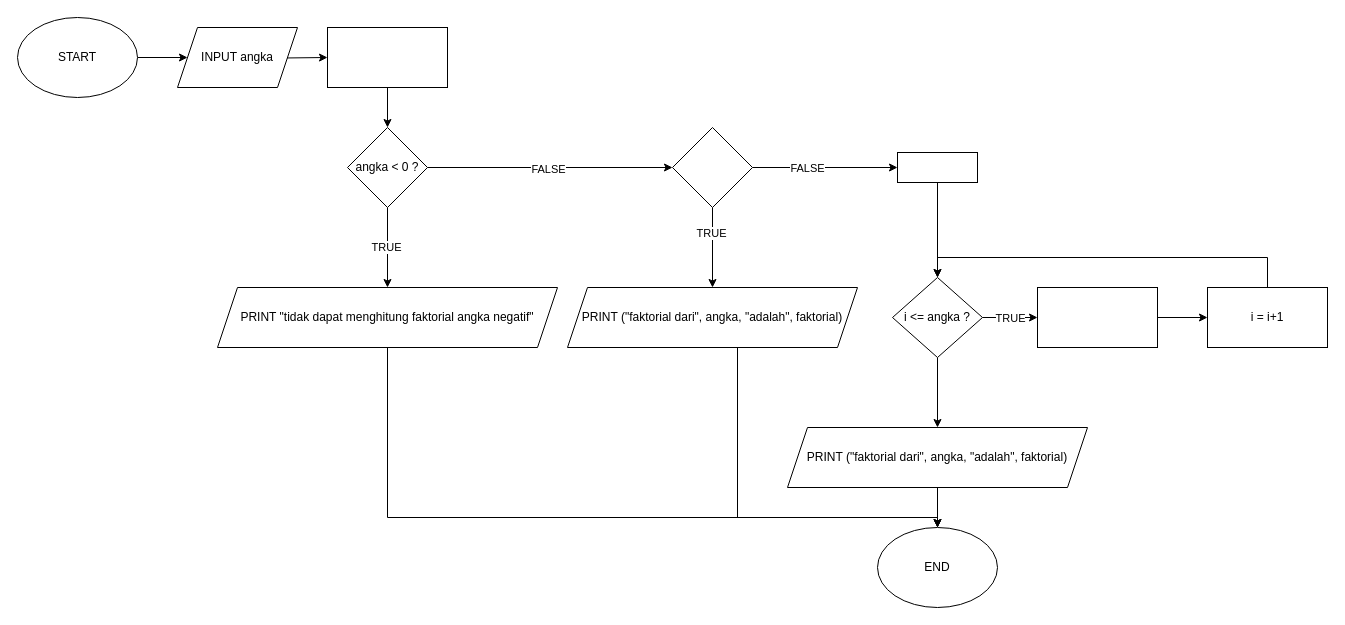
This 1345x625 diagram has some shape labels left out. Here are the shapes that lost their labels. From the top down, the centre of each, then its label:
(x=387, y=57): faktorial = 1
(x=712, y=167): angka == 0 ?
(x=937, y=167): i = 1
(x=1097, y=317): faktorial = faktorial*i
